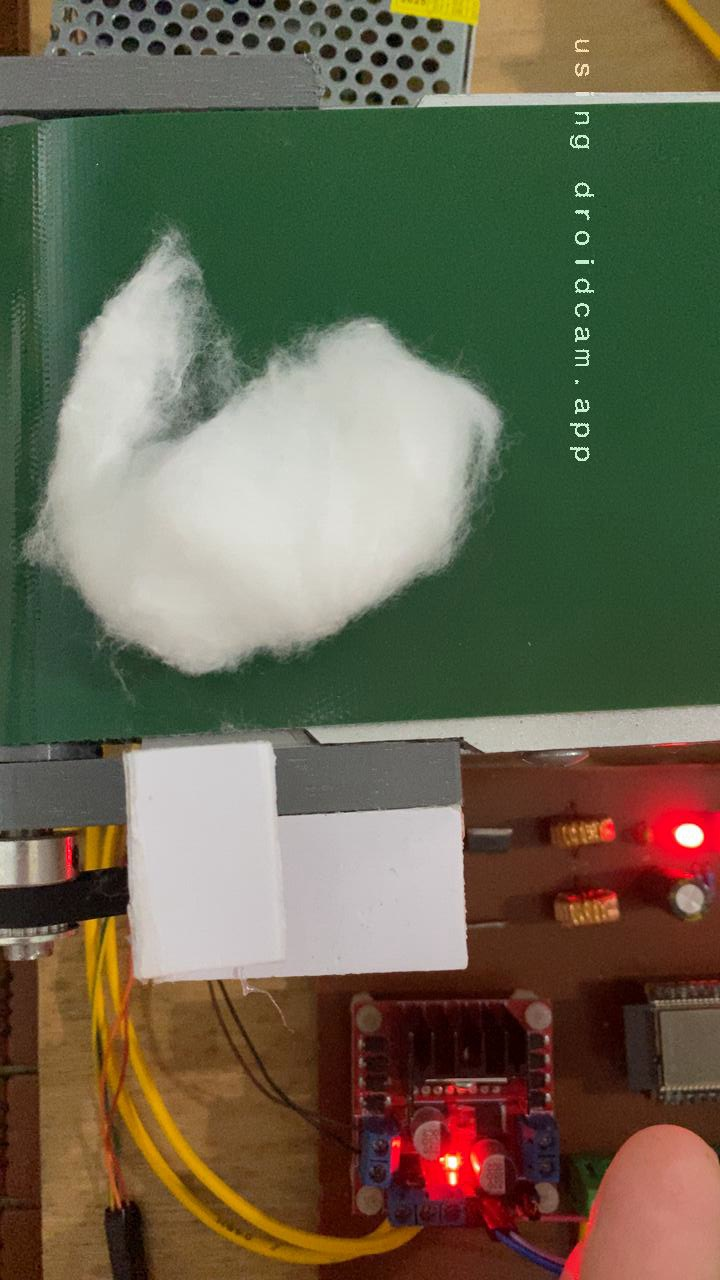cotton: (20, 225, 509, 683)
